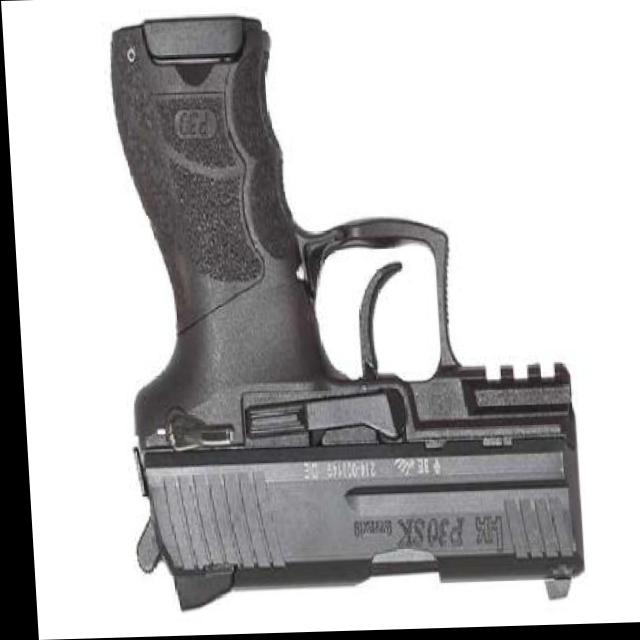handgun: (104, 9, 579, 612)
